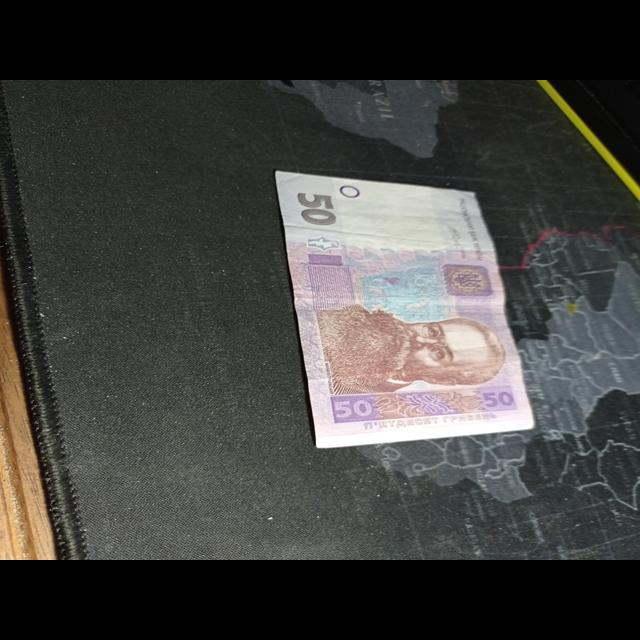50uah: (274, 169, 537, 449)
